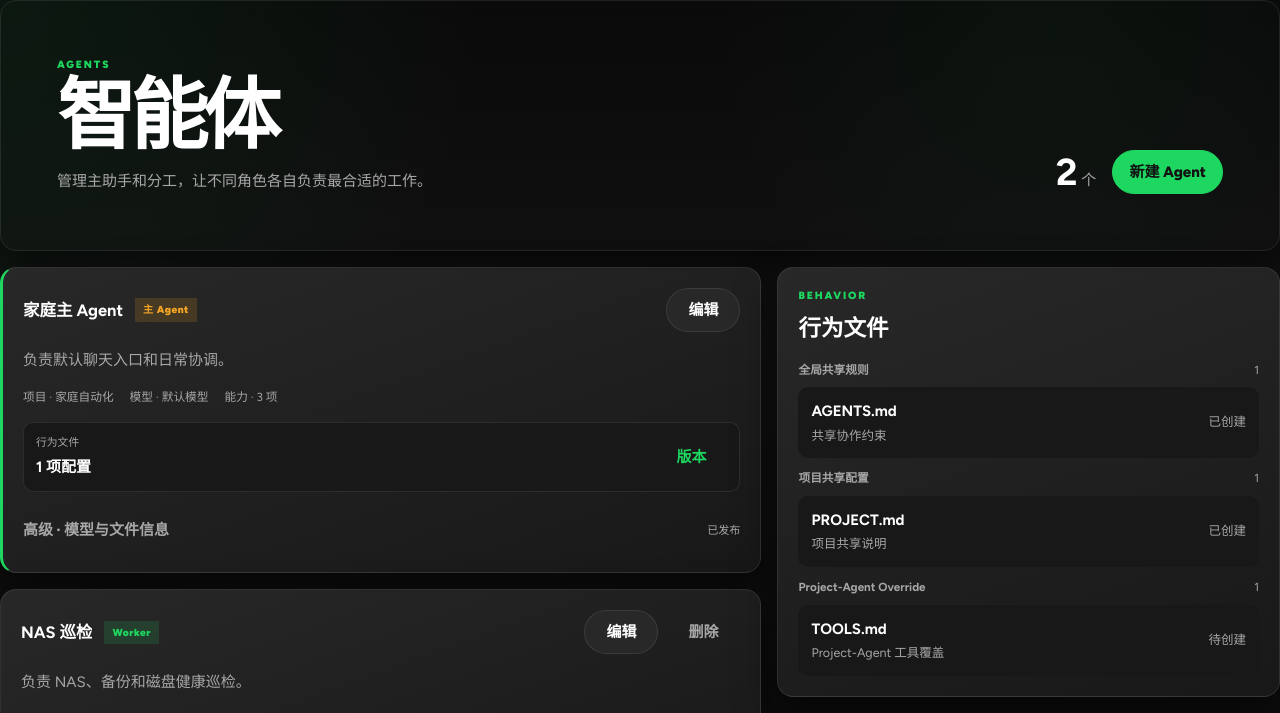
Test case: AgentCenter › 可以从 Agent 卡片直接进入编辑器并加载当前 Agent 信息
The width and height of the screenshot is (1280, 713).
Expected: the text "NAS 巡检" is shown, [21,622,92,642]
What coordinates should you click on to do the following:
click the button "编辑" in the row of "Worker"
I would click on:
 (621, 632)
Its box is [584,610,658,654].
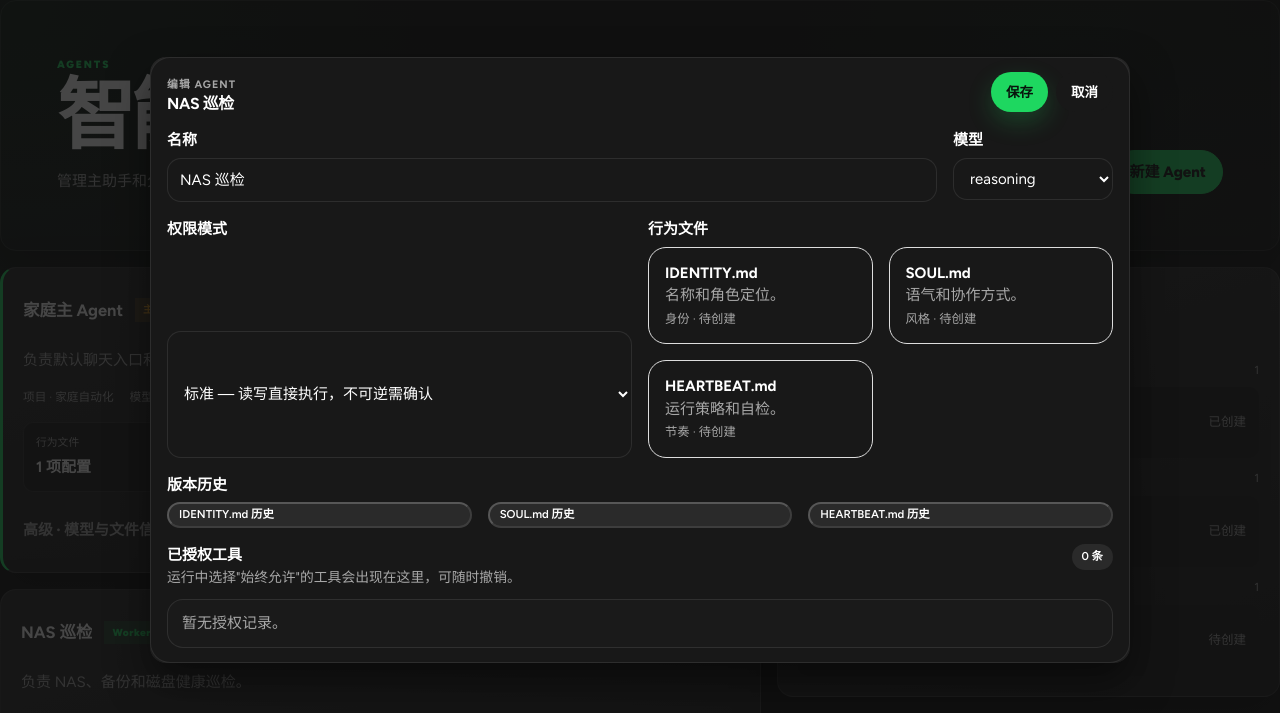
Now the heading "NAS 巡检" is shown, box [167,95,236,113]
Now the field showing "NAS 巡检" is shown, box [167,158,937,202]
Now the dropdown showing "reasoning" is shown, box [953,158,1113,200]
